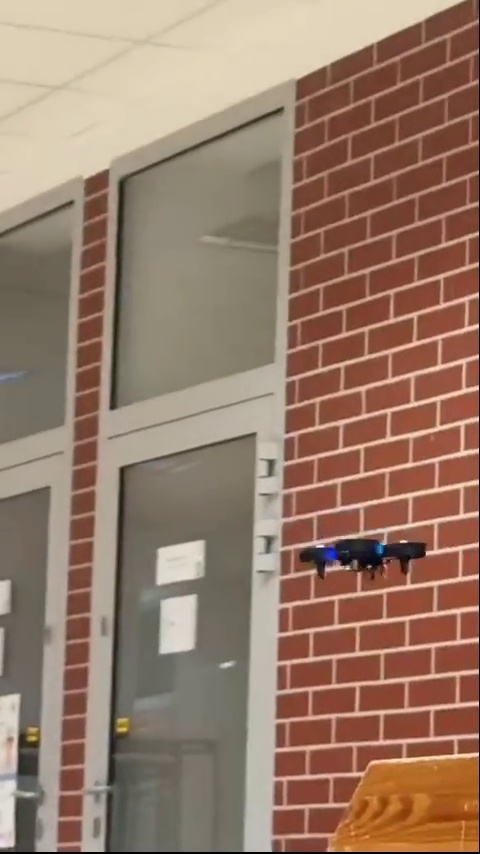drone: (303, 535, 424, 580)
